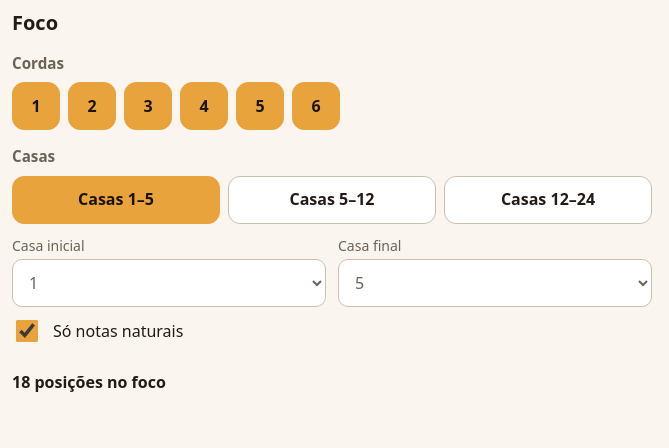
Test: Focus › warns when no string is selected
Click the button named "Corda 1".
click(36, 106)  # box [12, 82, 60, 130]
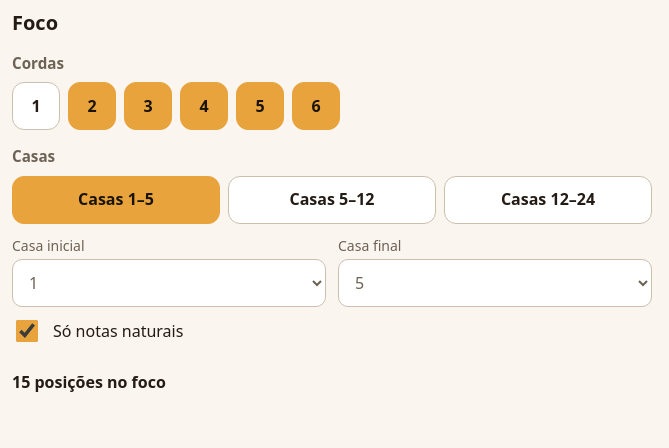
Click the button "2".
click(92, 106)  # box [68, 82, 116, 130]
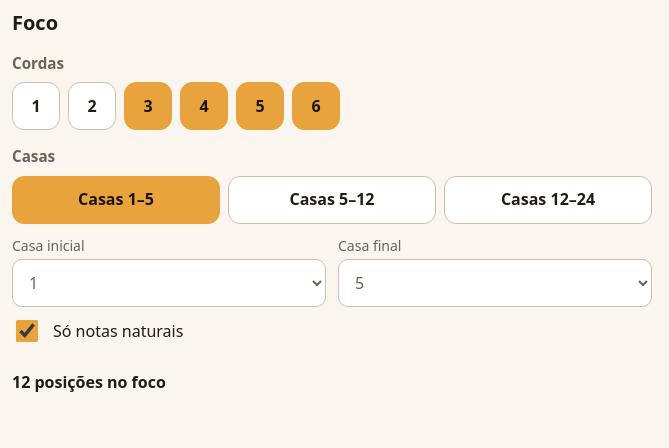
Click the button named "Corda 3".
click(148, 106)  # box [124, 82, 172, 130]
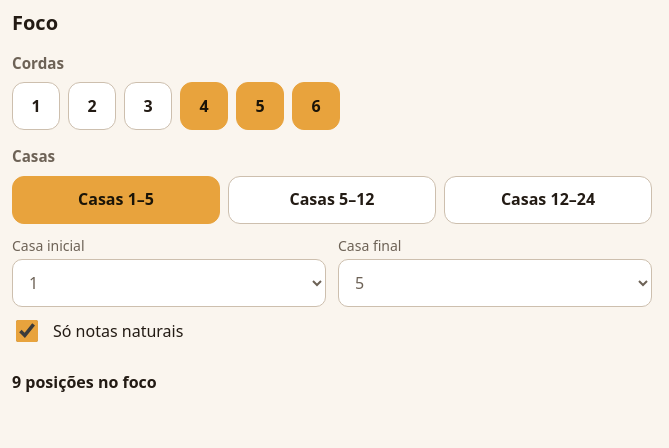
Click the button "4".
click(204, 106)  # box [180, 82, 228, 130]
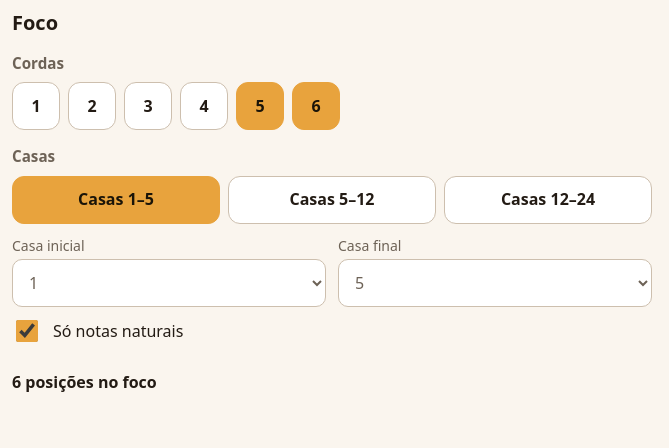
Click the button "5".
click(260, 106)  # box [236, 82, 284, 130]
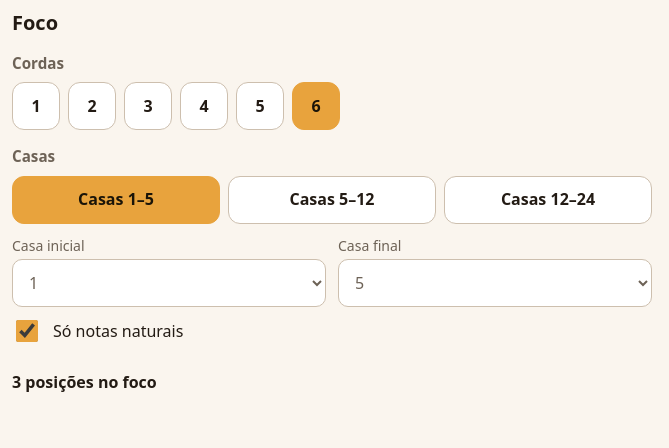
Click the button named "Corda 6".
click(316, 106)  # box [292, 82, 340, 130]
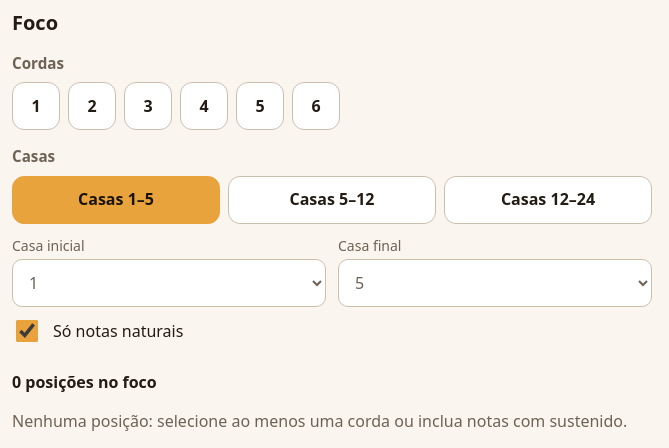
Result: the text with test id "count" reads "0 posições no foco" at [12, 371, 157, 393]
Result: the text "Nenhuma posição" is shown at [12, 410, 627, 432]
